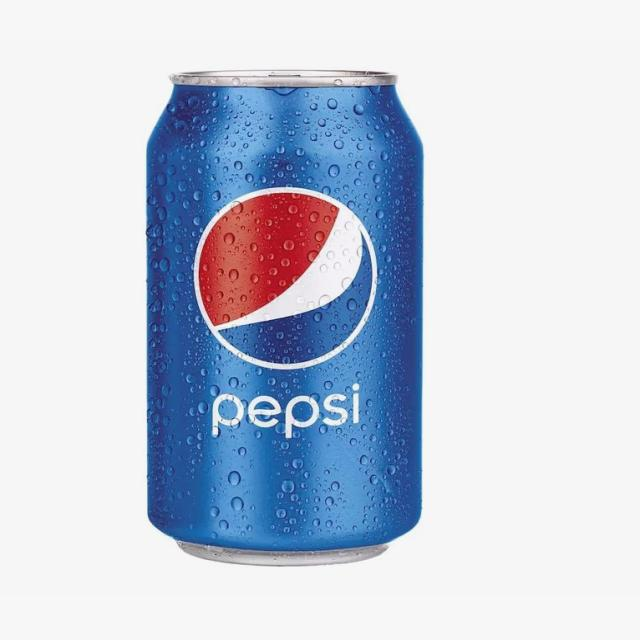supermarket-product: (146, 173, 438, 481)
